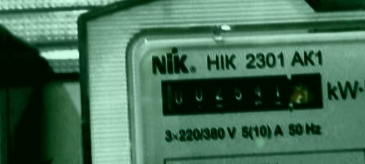0: (169, 84, 183, 105), (190, 81, 203, 102)
1: (269, 79, 281, 99)
2: (210, 81, 223, 102)
4: (250, 79, 263, 100)
5: (229, 79, 242, 102)
6: (292, 90, 303, 105)
screen: (149, 63, 333, 124)
